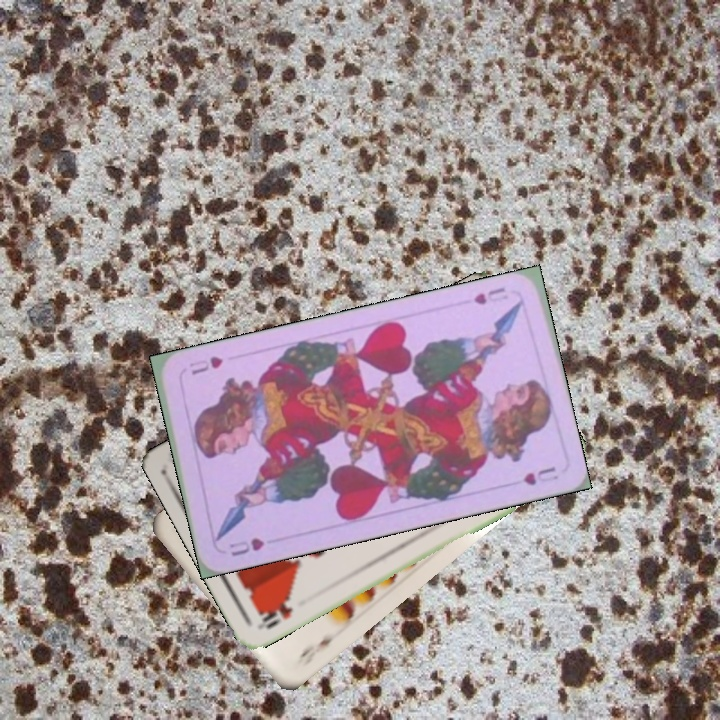E9: (292, 630, 342, 670)
HO: (255, 594, 296, 632)
HU: (225, 533, 267, 559), (470, 283, 508, 307)
